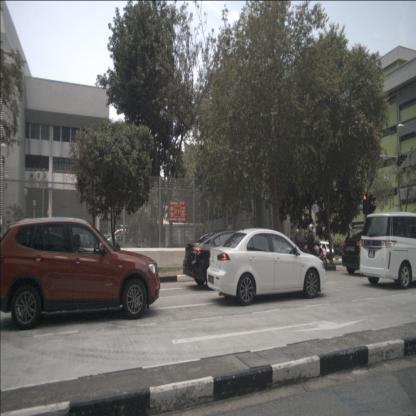human-pedestrian-adult: (345, 231, 353, 265)
vehicle-car: (0, 217, 160, 330), (206, 228, 326, 305), (182, 229, 280, 291), (359, 212, 416, 290), (342, 228, 412, 278), (95, 228, 152, 261), (311, 241, 335, 260)
vehicle-motorcycle: (299, 223, 327, 273)
